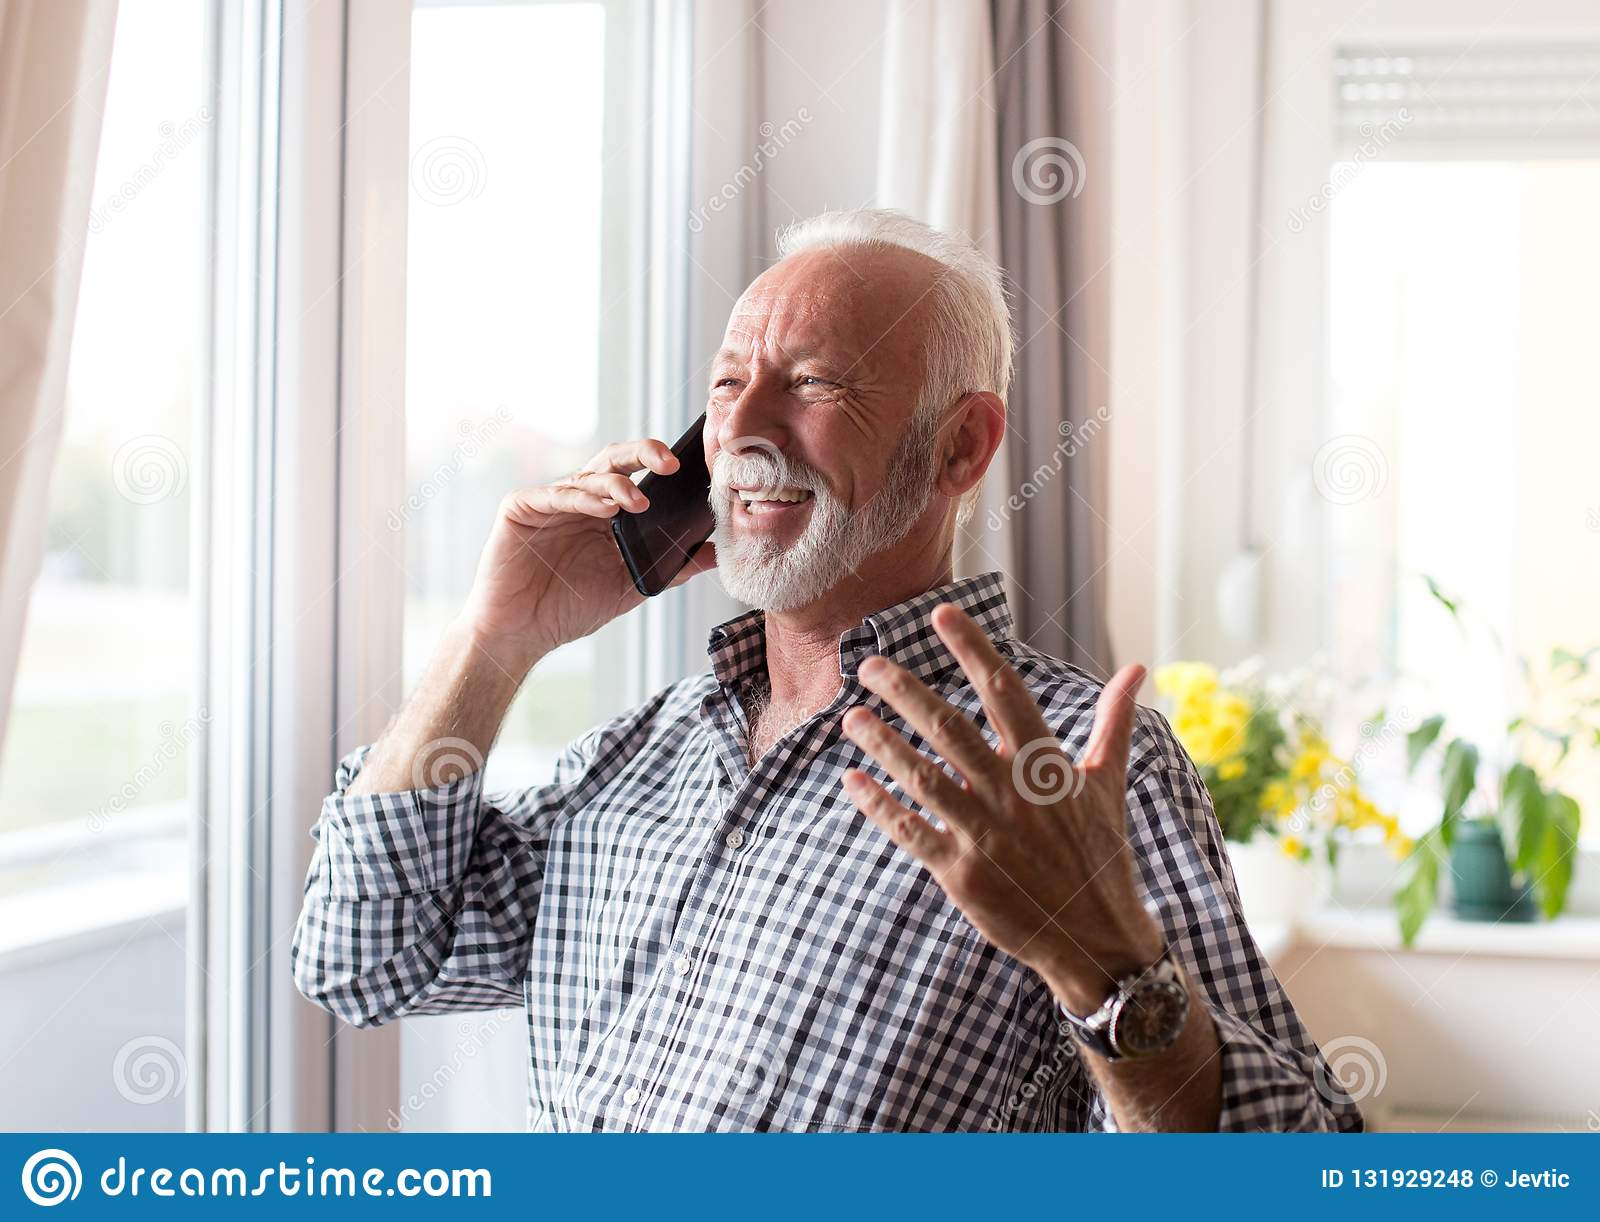phone: (609, 400, 713, 596)
talk: (479, 338, 860, 664)
